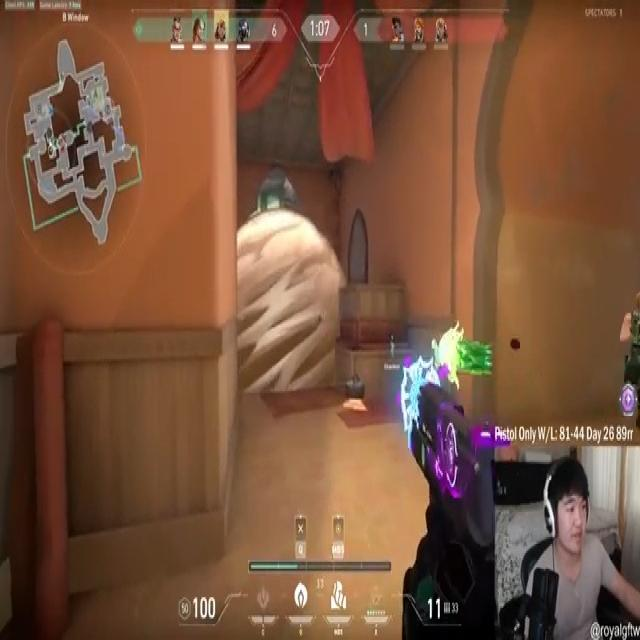smoke: (238, 214, 343, 394)
spike: (341, 374, 370, 415)
